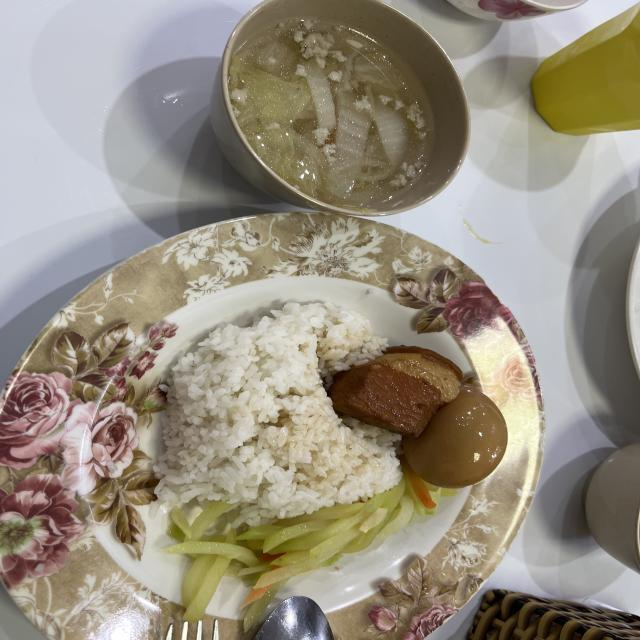canh cai: (227, 19, 433, 209)
com: (159, 303, 400, 518)
kho trung: (329, 348, 508, 488)
rau: (163, 460, 457, 630)
